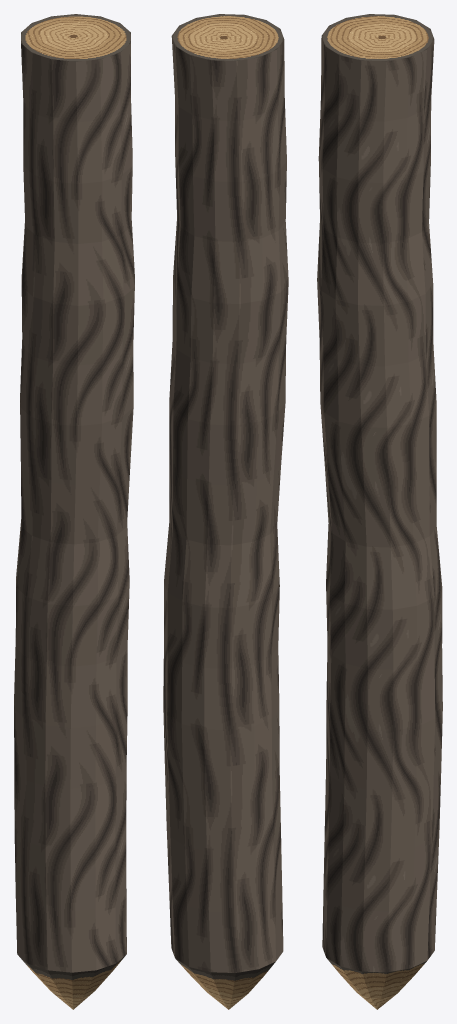
Rendered from environment_fir_log_v1.fbx.
3 views of the same model, side by side, from view 1: azimuth 90°, elevation 25°; view 2: azimuth 150°, elevation 25°; view 3: azimuth 330°, elevation 25° (orthographic).
Visible parts, largest first — view 1: environment_fir_log_v1; view 2: environment_fir_log_v1; view 3: environment_fir_log_v1.
Part boxes in pixels (x1,y1,x2,y2): environment_fir_log_v1: (14,14,134,1009); environment_fir_log_v1: (163,14,288,1009); environment_fir_log_v1: (317,14,442,1009).
Bounding box in the file's own units: 92.12 × 800 × 90.26.
